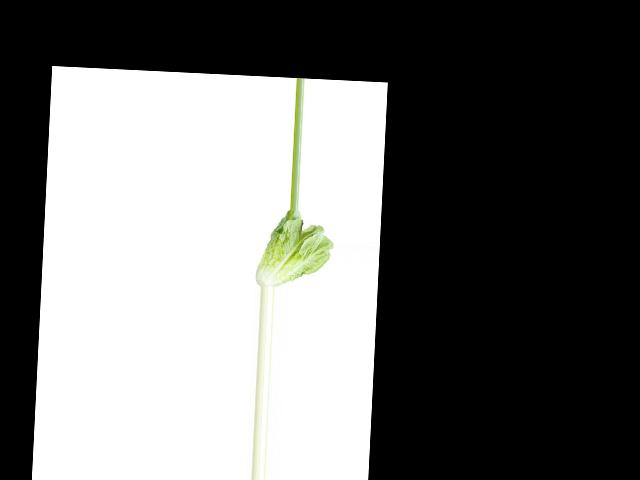lettuce: (254, 210, 335, 289)
